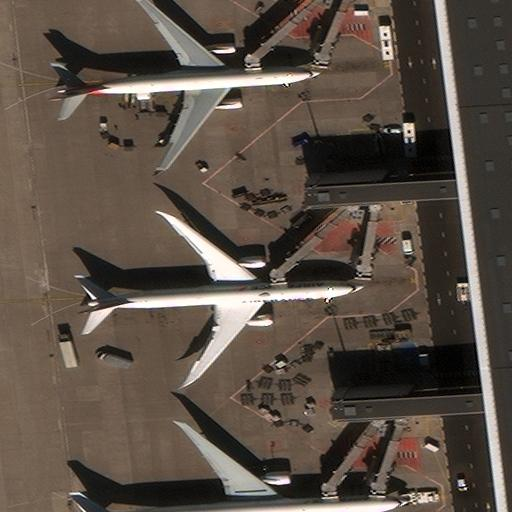Large Civil Transport: (77, 212, 365, 383), (56, 0, 319, 170), (93, 422, 408, 511)
